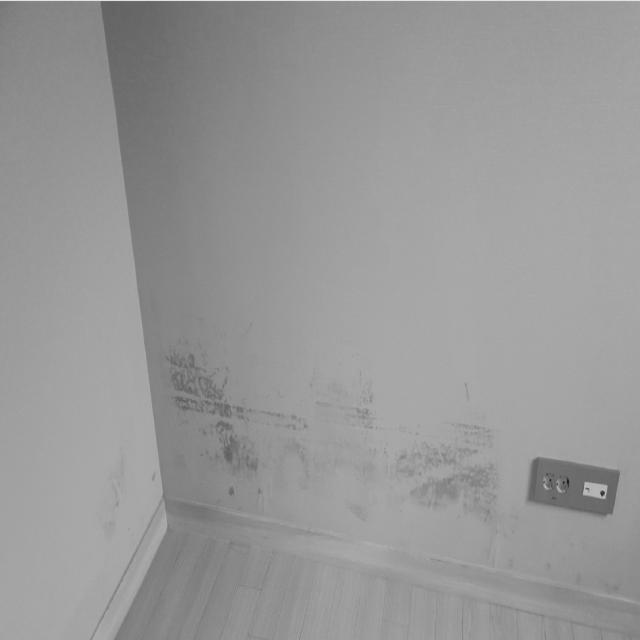stain marks: (167, 346, 499, 558), (93, 412, 136, 566), (539, 525, 635, 592), (496, 491, 526, 572), (143, 460, 158, 488)
